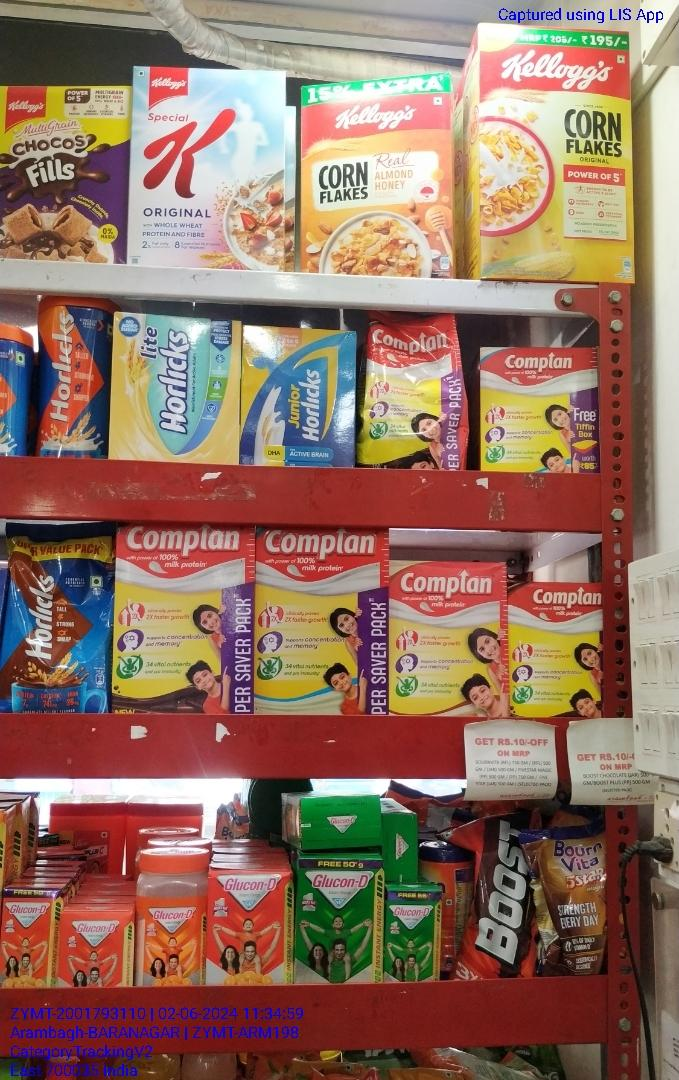BOURN_VITA_FIVE_STAR_MAGIC_500_G_POUCH: (525, 824, 608, 977)
